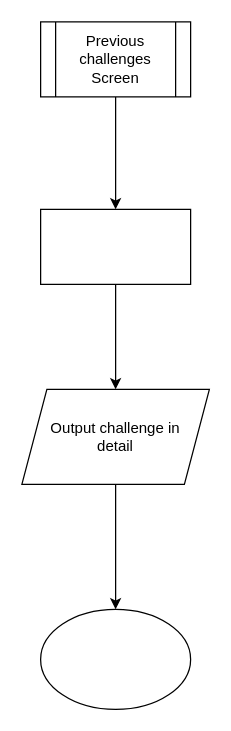
The diagram is 231 pixels wide and 731 high, and some of its shapes have lost their labels. Each missing label, with the box of its shape:
Fetch current challenge freelancer is in: (39, 208, 191, 284)
Stop: (39, 608, 191, 709)
